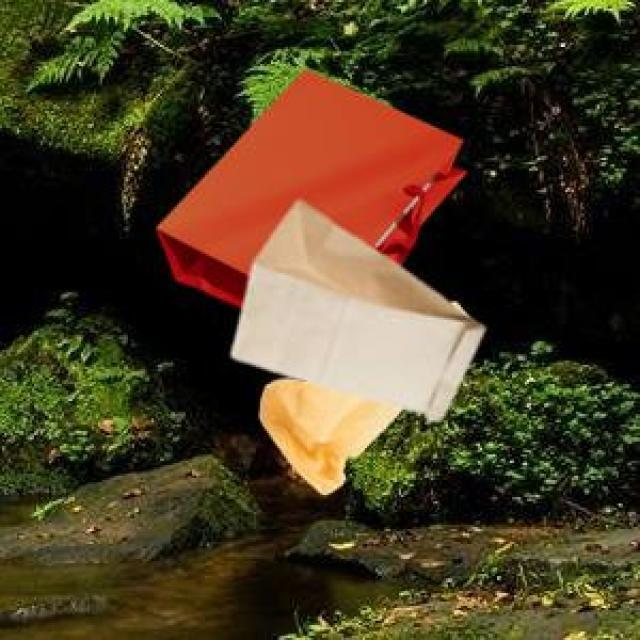paper: (154, 66, 461, 303), (228, 196, 480, 416)
